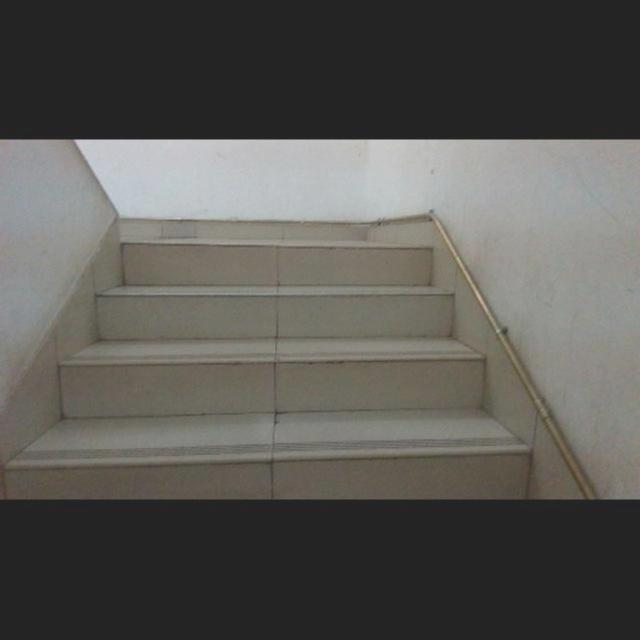stair: (66, 244, 536, 488)
